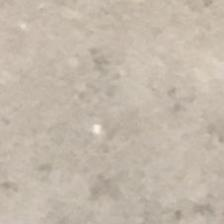Non_Crack: (9, 64, 224, 188)
